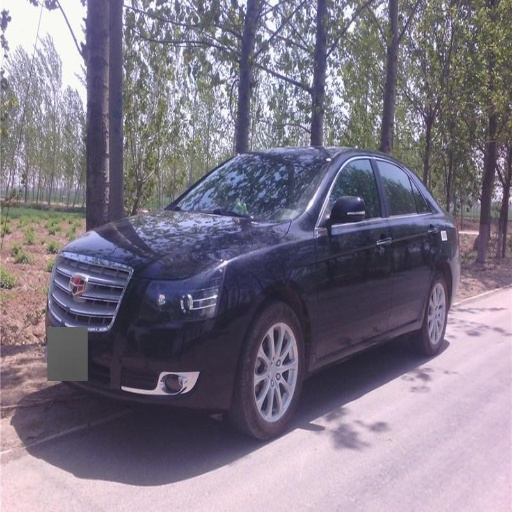front_bumper: (48, 257, 244, 406)
front_glass: (167, 151, 331, 222)
front_left_door: (313, 156, 396, 359)
